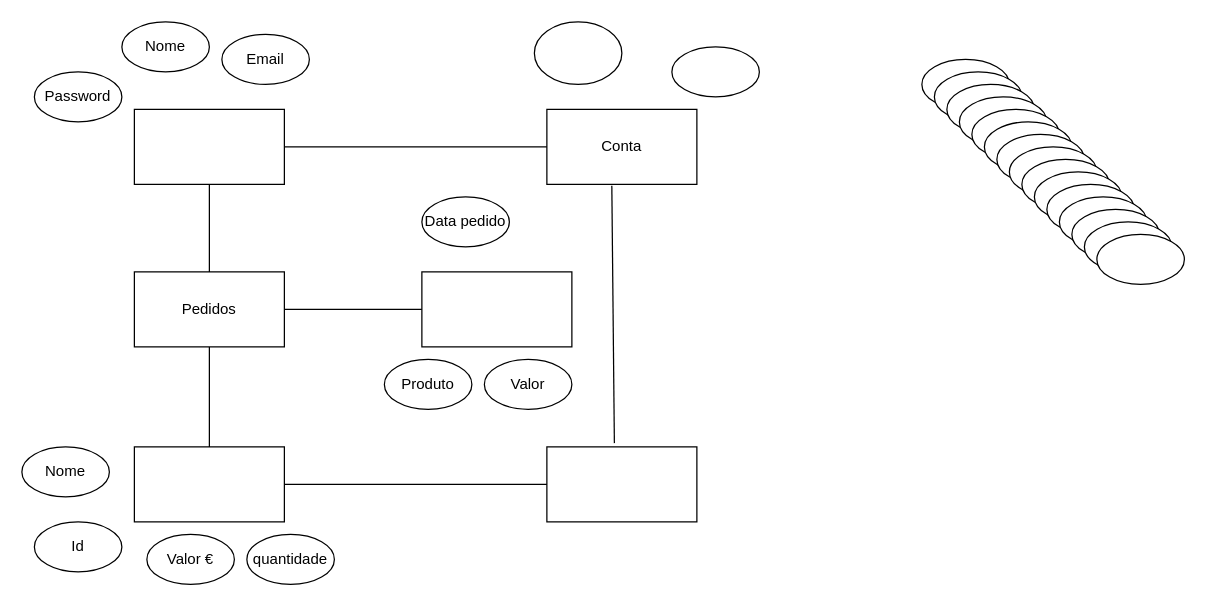
This 1206x606 diagram has some shape labels left out. Each missing label, with the centre of its shape:
Cliente: the point at 208,146
Compra: the point at 621,484
Histórico: the point at 496,309
Produtos: the point at 208,484
Saldo: the point at 577,52
